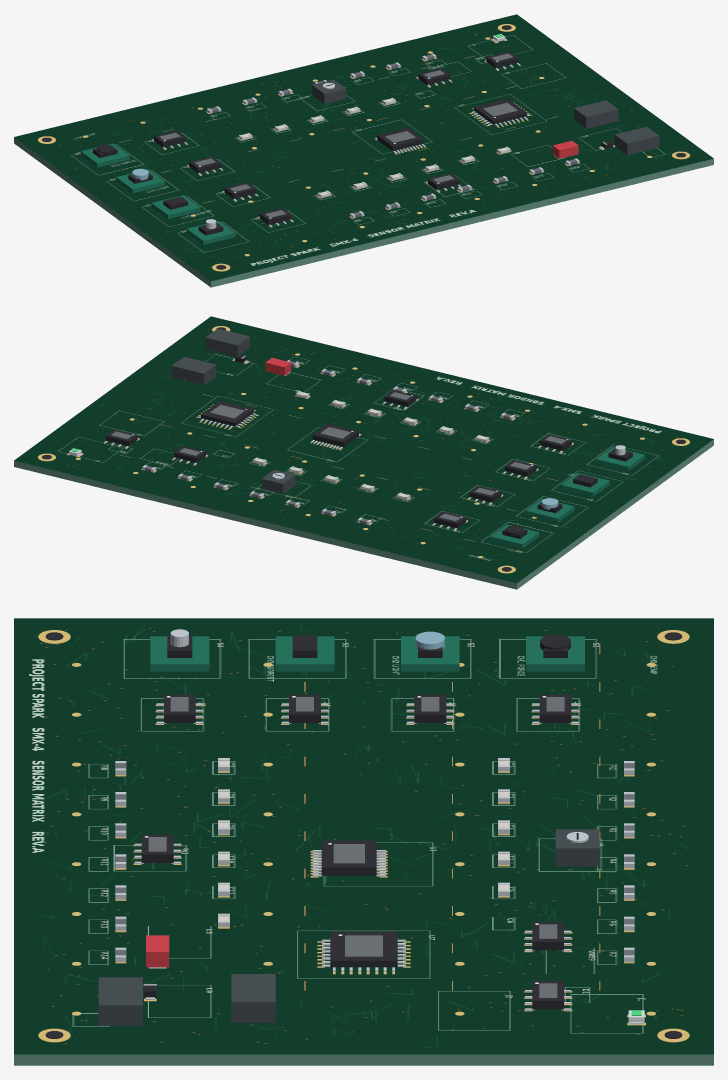
File: L96_COMPLETE_REFERENCE_VISUAL_ONLY.glb
3 renders of one model, top to bottom at view 1: azimuth 30°, elevation 25°; view 2: azimuth 150°, elevation 25°; view 3: azimuth 270°, elevation 25°, orthographic. The views are drawn at different scales.
Visible parts, largest first — view 1: L96_SMX4_COMPLETE_REFERENCE_VISUAL_ONLY_259_PCB_FactoryScree, L96_SMX4_COMPLETE_REFERENCE_VISUAL_ONLY_000_FR4_Substrate_1p, L96_SMX4_COMPLETE_REFERENCE_VISUAL_ONLY_549_Connector_Housin, L96_SMX4_COMPLETE_REFERENCE_VISUAL_ONLY_554_Connector_Housin, L96_SMX4_COMPLETE_REFERENCE_VISUAL_ONLY_338_Molded_Encapsula, L96_SMX4_COMPLETE_REFERENCE_VISUAL_ONLY_559_Calibration_Trim, L96_SMX4_COMPLETE_REFERENCE_VISUAL_ONLY_527_Mini_Module_PCB, L96_SMX4_COMPLETE_REFERENCE_VISUAL_ONLY_520_Mini_Module_PCB, L96_SMX4_COMPLETE_REFERENCE_VISUAL_ONLY_260_Molded_Encapsula, L96_SMX4_COMPLETE_REFERENCE_VISUAL_ONLY_542_Mini_Module_PCB, L96_SMX4_COMPLETE_REFERENCE_VISUAL_ONLY_535_Mini_Module_PCB; view 2: L96_SMX4_COMPLETE_REFERENCE_VISUAL_ONLY_259_PCB_FactoryScree, L96_SMX4_COMPLETE_REFERENCE_VISUAL_ONLY_000_FR4_Substrate_1p, L96_SMX4_COMPLETE_REFERENCE_VISUAL_ONLY_554_Connector_Housin, L96_SMX4_COMPLETE_REFERENCE_VISUAL_ONLY_549_Connector_Housin, L96_SMX4_COMPLETE_REFERENCE_VISUAL_ONLY_338_Molded_Encapsula, L96_SMX4_COMPLETE_REFERENCE_VISUAL_ONLY_559_Calibration_Trim, L96_SMX4_COMPLETE_REFERENCE_VISUAL_ONLY_527_Mini_Module_PCB, L96_SMX4_COMPLETE_REFERENCE_VISUAL_ONLY_520_Mini_Module_PCB, L96_SMX4_COMPLETE_REFERENCE_VISUAL_ONLY_542_Mini_Module_PCB, L96_SMX4_COMPLETE_REFERENCE_VISUAL_ONLY_260_Molded_Encapsula, L96_SMX4_COMPLETE_REFERENCE_VISUAL_ONLY_535_Mini_Module_PCB; view 3: L96_SMX4_COMPLETE_REFERENCE_VISUAL_ONLY_259_PCB_FactoryScree, L96_SMX4_COMPLETE_REFERENCE_VISUAL_ONLY_000_FR4_Substrate_1p, L96_SMX4_COMPLETE_REFERENCE_VISUAL_ONLY_549_Connector_Housin, L96_SMX4_COMPLETE_REFERENCE_VISUAL_ONLY_554_Connector_Housin, L96_SMX4_COMPLETE_REFERENCE_VISUAL_ONLY_338_Molded_Encapsula, L96_SMX4_COMPLETE_REFERENCE_VISUAL_ONLY_520_Mini_Module_PCB, L96_SMX4_COMPLETE_REFERENCE_VISUAL_ONLY_527_Mini_Module_PCB, L96_SMX4_COMPLETE_REFERENCE_VISUAL_ONLY_535_Mini_Module_PCB, L96_SMX4_COMPLETE_REFERENCE_VISUAL_ONLY_542_Mini_Module_PCB, L96_SMX4_COMPLETE_REFERENCE_VISUAL_ONLY_559_Calibration_Trim, L96_SMX4_COMPLETE_REFERENCE_VISUAL_ONLY_260_Molded_Encapsula, L96_SMX4_COMPLETE_REFERENCE_VISUAL_ONLY_339_LaserMark_Panel (+6 smaller).
Part boxes in pixels (x1,y1,x2,y2): L96_SMX4_COMPLETE_REFERENCE_VISUAL_ONLY_259_PCB_FactoryScree: (14,14,713,281); L96_SMX4_COMPLETE_REFERENCE_VISUAL_ONLY_000_FR4_Substrate_1p: (14,137,713,287); L96_SMX4_COMPLETE_REFERENCE_VISUAL_ONLY_549_Connector_Housin: (614,127,659,155); L96_SMX4_COMPLETE_REFERENCE_VISUAL_ONLY_554_Connector_Housin: (574,100,618,128); L96_SMX4_COMPLETE_REFERENCE_VISUAL_ONLY_338_Molded_Encapsula: (474,99,526,124); L96_SMX4_COMPLETE_REFERENCE_VISUAL_ONLY_559_Calibration_Trim: (312,79,345,103); L96_SMX4_COMPLETE_REFERENCE_VISUAL_ONLY_527_Mini_Module_PCB: (151,195,200,218); L96_SMX4_COMPLETE_REFERENCE_VISUAL_ONLY_520_Mini_Module_PCB: (186,221,235,244); L96_SMX4_COMPLETE_REFERENCE_VISUAL_ONLY_260_Molded_Encapsula: (377,128,423,150); L96_SMX4_COMPLETE_REFERENCE_VISUAL_ONLY_542_Mini_Module_PCB: (81,143,129,167); L96_SMX4_COMPLETE_REFERENCE_VISUAL_ONLY_535_Mini_Module_PCB: (116,169,164,193); L96_SMX4_COMPLETE_REFERENCE_VISUAL_ONLY_259_PCB_FactoryScree: (14,316,713,583); L96_SMX4_COMPLETE_REFERENCE_VISUAL_ONLY_000_FR4_Substrate_1p: (14,439,713,589); L96_SMX4_COMPLETE_REFERENCE_VISUAL_ONLY_554_Connector_Housin: (171,356,216,385); L96_SMX4_COMPLETE_REFERENCE_VISUAL_ONLY_549_Connector_Housin: (205,328,249,356); L96_SMX4_COMPLETE_REFERENCE_VISUAL_ONLY_338_Molded_Encapsula: (201,401,253,426); L96_SMX4_COMPLETE_REFERENCE_VISUAL_ONLY_559_Calibration_Trim: (261,469,295,493); L96_SMX4_COMPLETE_REFERENCE_VISUAL_ONLY_527_Mini_Module_PCB: (561,473,609,496); L96_SMX4_COMPLETE_REFERENCE_VISUAL_ONLY_520_Mini_Module_PCB: (596,447,644,470); L96_SMX4_COMPLETE_REFERENCE_VISUAL_ONLY_542_Mini_Module_PCB: (490,524,539,548); L96_SMX4_COMPLETE_REFERENCE_VISUAL_ONLY_260_Molded_Encapsula: (312,423,358,446); L96_SMX4_COMPLETE_REFERENCE_VISUAL_ONLY_535_Mini_Module_PCB: (525,498,574,522); L96_SMX4_COMPLETE_REFERENCE_VISUAL_ONLY_259_PCB_FactoryScree: (14,618,713,1054); L96_SMX4_COMPLETE_REFERENCE_VISUAL_ONLY_000_FR4_Substrate_1p: (14,1054,713,1065); L96_SMX4_COMPLETE_REFERENCE_VISUAL_ONLY_549_Connector_Housin: (98,977,142,1025); L96_SMX4_COMPLETE_REFERENCE_VISUAL_ONLY_554_Connector_Housin: (231,974,275,1022); L96_SMX4_COMPLETE_REFERENCE_VISUAL_ONLY_338_Molded_Encapsula: (330,931,397,967); L96_SMX4_COMPLETE_REFERENCE_VISUAL_ONLY_520_Mini_Module_PCB: (150,636,209,671); L96_SMX4_COMPLETE_REFERENCE_VISUAL_ONLY_527_Mini_Module_PCB: (275,636,334,671); L96_SMX4_COMPLETE_REFERENCE_VISUAL_ONLY_535_Mini_Module_PCB: (401,636,459,671); L96_SMX4_COMPLETE_REFERENCE_VISUAL_ONLY_542_Mini_Module_PCB: (526,636,584,671); L96_SMX4_COMPLETE_REFERENCE_VISUAL_ONLY_559_Calibration_Trim: (555,829,599,866); L96_SMX4_COMPLETE_REFERENCE_VISUAL_ONLY_260_Molded_Encapsula: (321,840,376,875); L96_SMX4_COMPLETE_REFERENCE_VISUAL_ONLY_339_LaserMark_Panel: (345,935,382,956).
Bounding box in the file's own units: 0.14 × 0.00554 × 0.095.
Materials: 15 (1 with a texture image).
